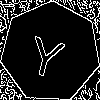Y: (25, 27, 69, 80)
